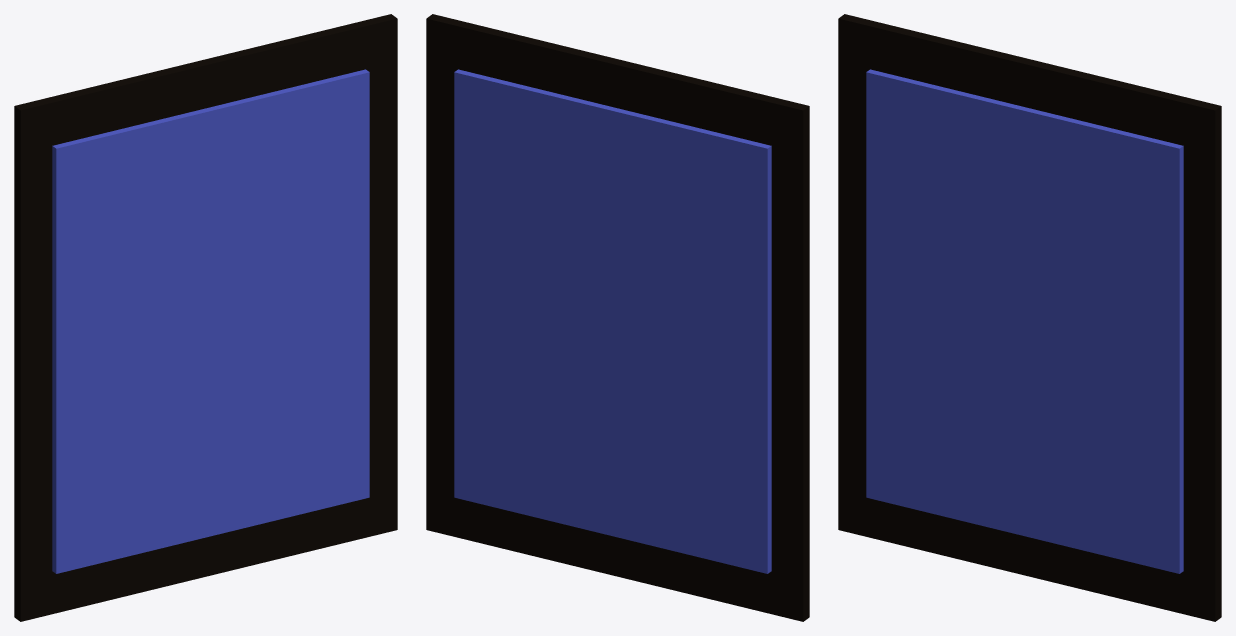
The model's file is door.obj.
3 views of the same model, side by side, from view 1: azimuth 30°, elevation 25°; view 2: azimuth 150°, elevation 25°; view 3: azimuth 330°, elevation 25° (orthographic).
Parts seen in each view (by area): view 1: Cube.001, Cube; view 2: Cube.001, Cube; view 3: Cube.001, Cube.
Boxes of the visible parts, x1,y1,x2,y2 form: Cube.001: (52,69,369,573); Cube: (14,14,397,621); Cube.001: (454,69,771,573); Cube: (426,14,809,621); Cube.001: (866,69,1183,573); Cube: (838,14,1221,621).
Size of the model in its own units: 7.21 by 9.35 by 0.4678.
